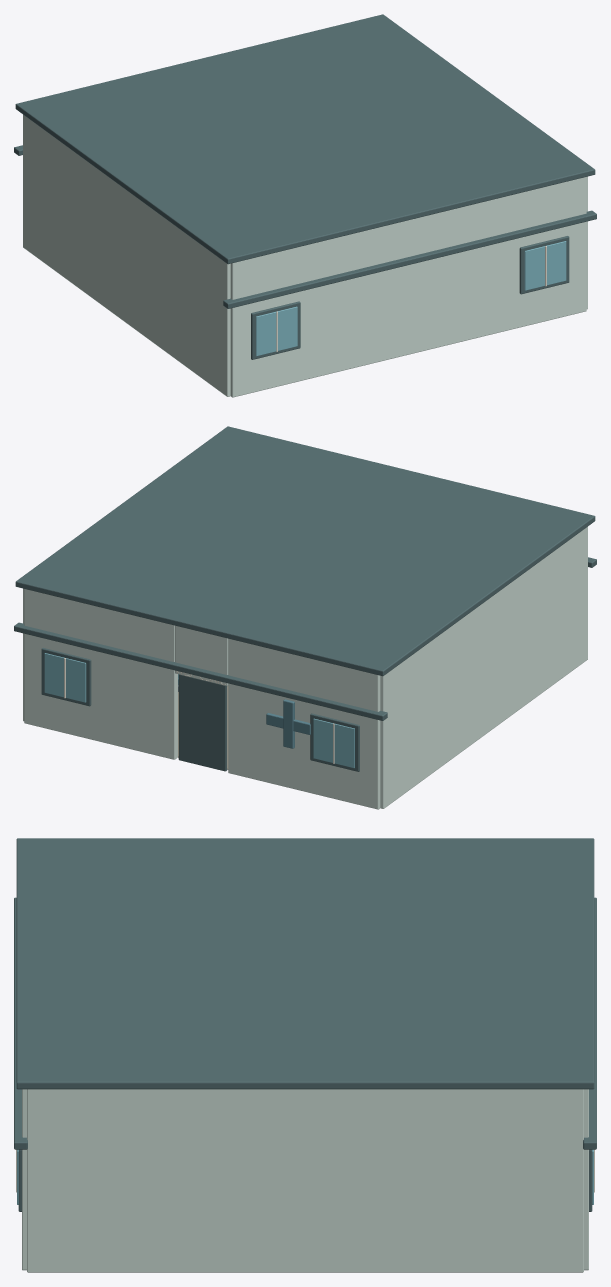
The model's file is district-clinic.glb.
3 views of the same model, one above another, from view 1: azimuth 30°, elevation 25°; view 2: azimuth 150°, elevation 25°; view 3: azimuth 270°, elevation 25° (orthographic). The views are drawn at different scales.
Visible parts, largest first — view 1: roof-trim, shell-wall, shell-trim, shell-glass; view 2: roof-trim, shell-wall, shell-trim, door leaf, shell-glass, shell-cloth; view 3: roof-trim, shell-wall, shell-trim.
Boxes of the visible parts, box(x1,y1,x2,y2) form: roof-trim: box(15, 14, 595, 264); shell-wall: box(23, 114, 587, 397); shell-trim: box(14, 145, 596, 359); shell-glass: box(256, 241, 566, 356); roof-trim: box(15, 426, 595, 676); shell-wall: box(23, 526, 587, 809); shell-trim: box(14, 557, 596, 771); door leaf: box(178, 674, 227, 771); shell-glass: box(44, 653, 354, 768); shell-cloth: box(266, 699, 310, 748); roof-trim: box(16, 838, 594, 1089); shell-wall: box(22, 1089, 588, 1272); shell-trim: box(14, 897, 596, 1211).
Size of the model in its own units: 12.5 by 4.6 by 12.56.
